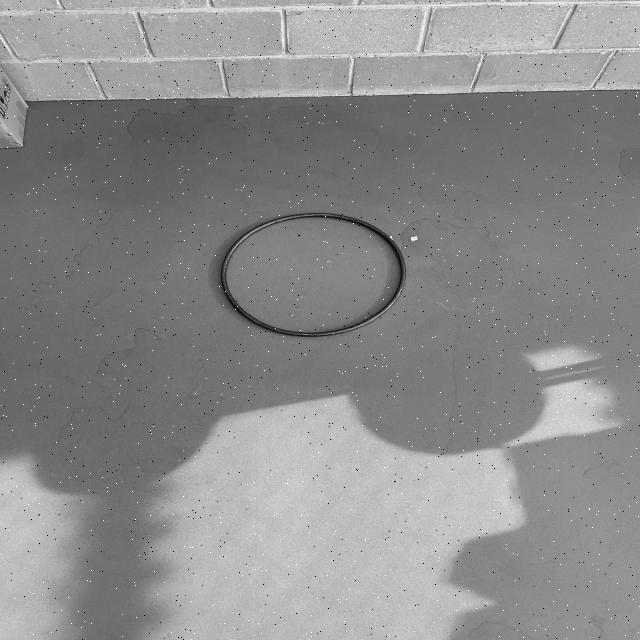Circle: (210, 208, 411, 342)
